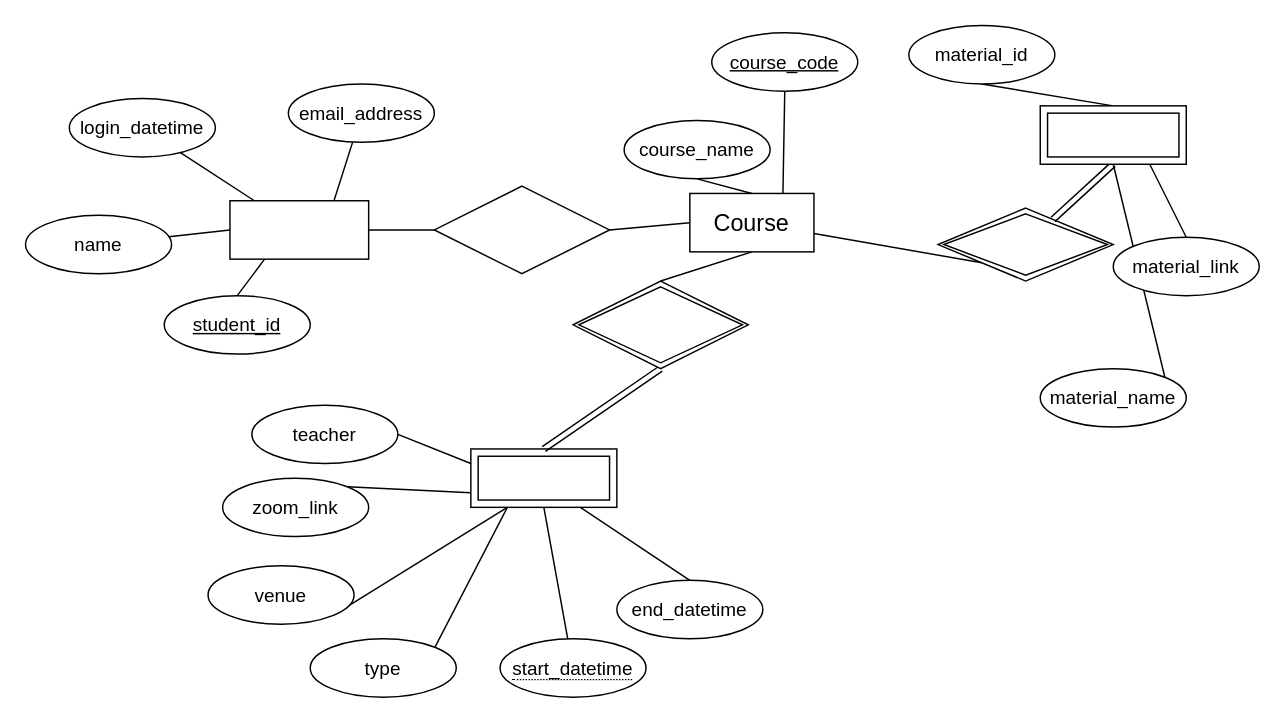
Image size: 1285x723. Some labels were removed from this diagram. Here are the shapes that lost their labels. From the top down, the centre of each, then its label:
At [1112,134]: "CourseMaterial".
At [298,229]: "Student".
At [521,229]: "enroll".
At [1025,244]: "contains".
At [660,324]: "has".
At [543,477]: "Lesson".
